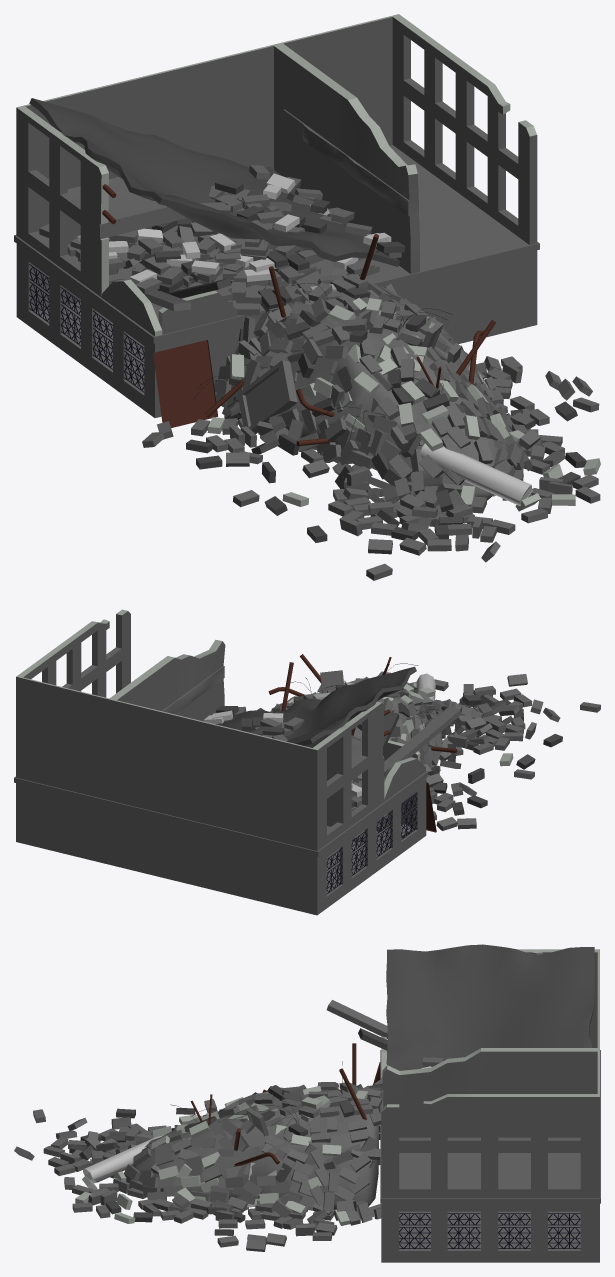
Rendered from destructions2.fbx.
The picture shows the model from 3 angles, top to bottom: view 1: azimuth 30°, elevation 25°; view 2: azimuth 150°, elevation 25°; view 3: azimuth 270°, elevation 25°; orthographic projection. The views are drawn at different scales.
Parts seen in each view (by area): view 1: Destucructions; view 2: Destucructions; view 3: Destucructions.
Part boxes in pixels (left/top/right/bottom): Destucructions: left=14, top=14, right=600, bottom=580; Destucructions: left=14, top=609, right=600, bottom=915; Destucructions: left=14, top=944, right=600, bottom=1262.
Size of the model in its own units: 886 by 457 by 1350.
Materials: 2 (2 with a texture image).
